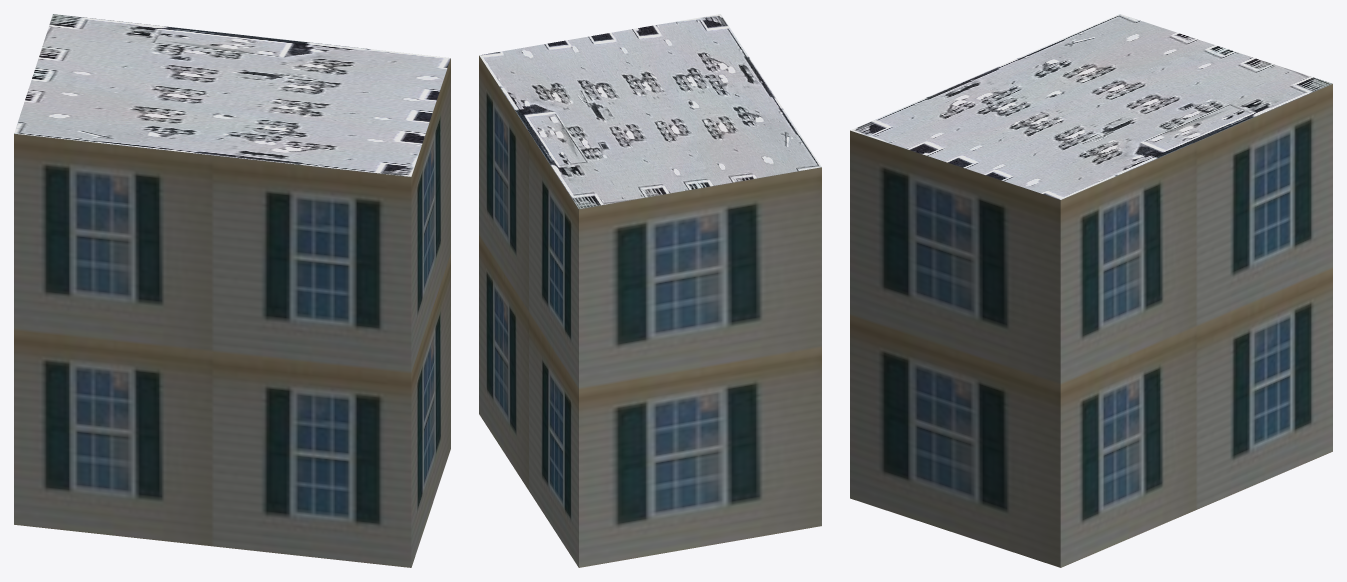
The model's file is ResTex__4266.fbx.
3 views of the same model, side by side, from view 1: azimuth 30°, elevation 25°; view 2: azimuth 150°, elevation 25°; view 3: azimuth 270°, elevation 25° (orthographic). The views are drawn at different scales.
Visible parts, largest first — view 1: CityEngineMaterial_7_m, CityEngineMaterial_15_m; view 2: CityEngineMaterial_7_m, CityEngineMaterial_15_m; view 3: CityEngineMaterial_7_m, CityEngineMaterial_15_m.
Part boxes in pixels (bbox=[...]): CityEngineMaterial_7_m: bbox=[14, 58, 450, 567]; CityEngineMaterial_15_m: bbox=[14, 14, 450, 176]; CityEngineMaterial_7_m: bbox=[479, 55, 821, 567]; CityEngineMaterial_15_m: bbox=[479, 14, 821, 208]; CityEngineMaterial_7_m: bbox=[850, 84, 1332, 567]; CityEngineMaterial_15_m: bbox=[850, 14, 1332, 199].
Size of the model in its own units: 6.5 by 6 by 7.13.
2 materials, 2 textured.
